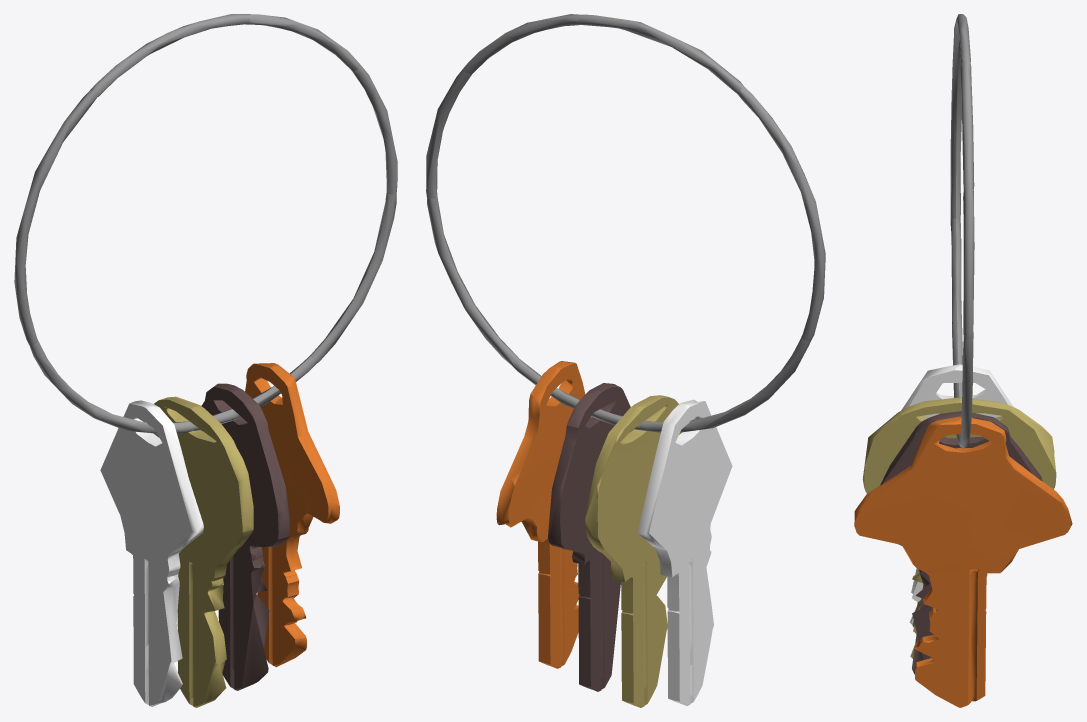
The model's file is KeyRing.fbx.
3 views of the same model, side by side, from view 1: azimuth 30°, elevation 25°; view 2: azimuth 150°, elevation 25°; view 3: azimuth 270°, elevation 25° (orthographic). The views are drawn at different scales.
Visible parts, largest first — view 1: Key1, Key2, Ring, Key3, Key4; view 2: Key1, Key2, Ring, Key4, Key3; view 3: Key4, Ring, Key2, Key3, Key1.
Part boxes in pixels (x1=…): Key1: x1=100, y1=400, x2=203, y2=706; Key2: x1=153, y1=396, x2=253, y2=707; Ring: x1=14, y1=14, x2=397, y2=433; Key3: x1=201, y1=383, x2=289, y2=690; Key4: x1=245, y1=363, x2=339, y2=667; Key1: x1=637, y1=399, x2=732, y2=705; Key2: x1=585, y1=395, x2=681, y2=707; Ring: x1=426, y1=14, x2=825, y2=432; Key4: x1=496, y1=361, x2=592, y2=668; Key3: x1=548, y1=383, x2=633, y2=691; Key4: x1=854, y1=416, x2=1072, y2=707; Ring: x1=950, y1=14, x2=974, y2=448; Key2: x1=862, y1=397, x2=1056, y2=658; Key3: x1=880, y1=411, x2=1042, y2=674; Key1: x1=901, y1=364, x2=1013, y2=625.
Size of the model in its own units: 8.49 by 14.27 by 4.27.
